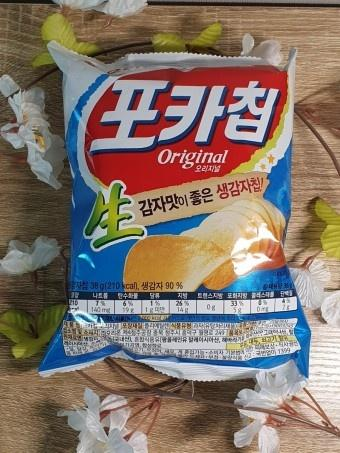snack: (36, 39, 312, 384)
